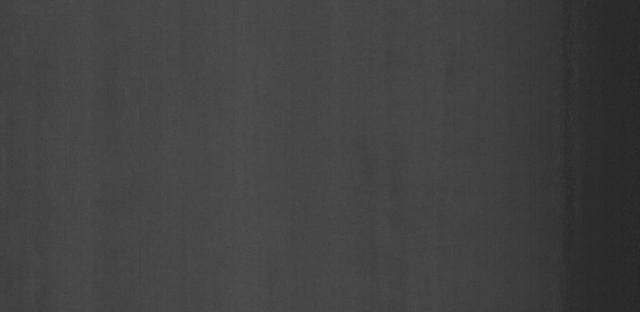silk_spot: (372, 160, 457, 227)
